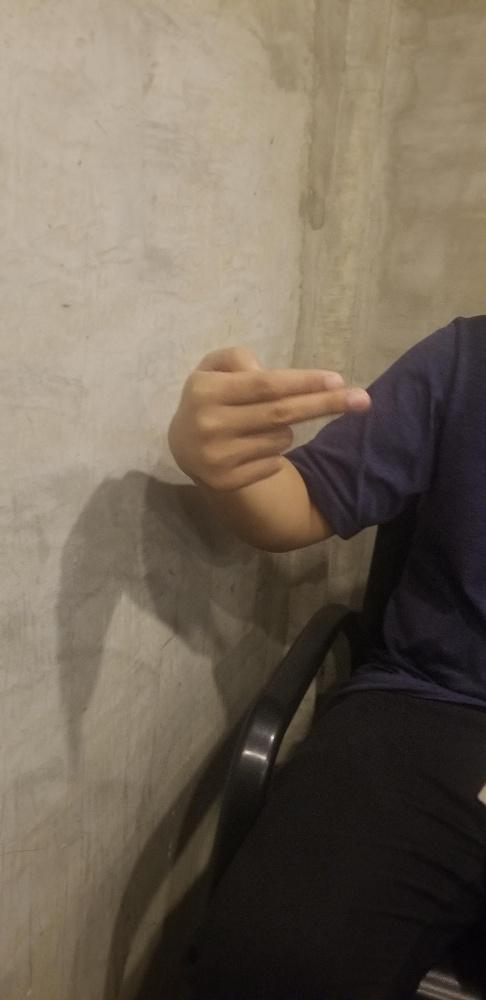h: (186, 345, 372, 488)
